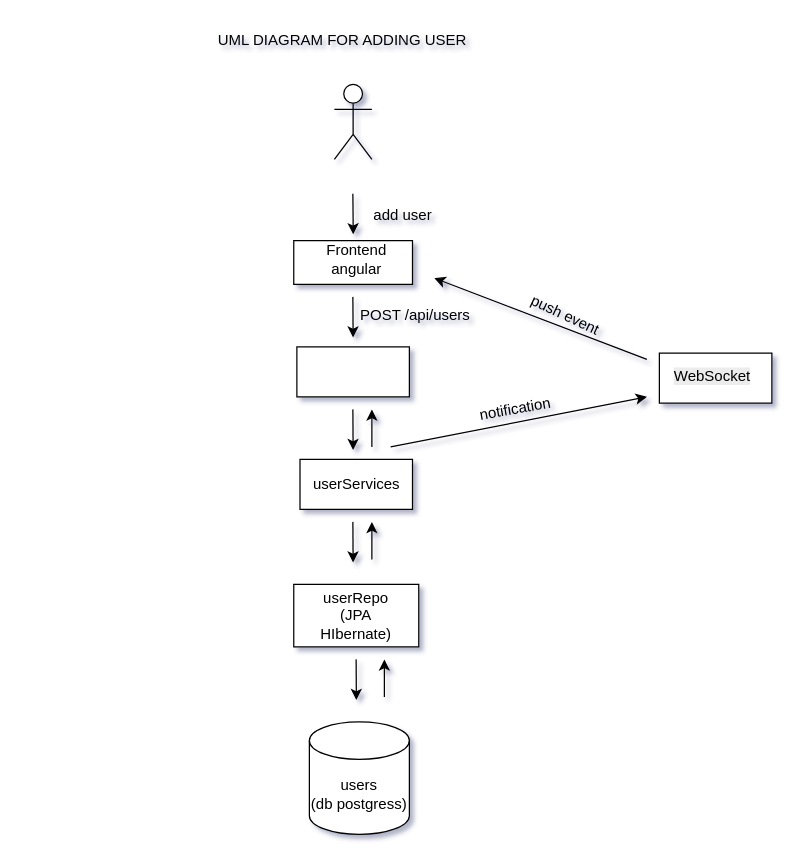
Image size: 801x864. Some labels were removed from this diagram. The centre of each missing label's shape, as x and y in pixels:
User: (x=352, y=121)
UserController: (x=352, y=371)
